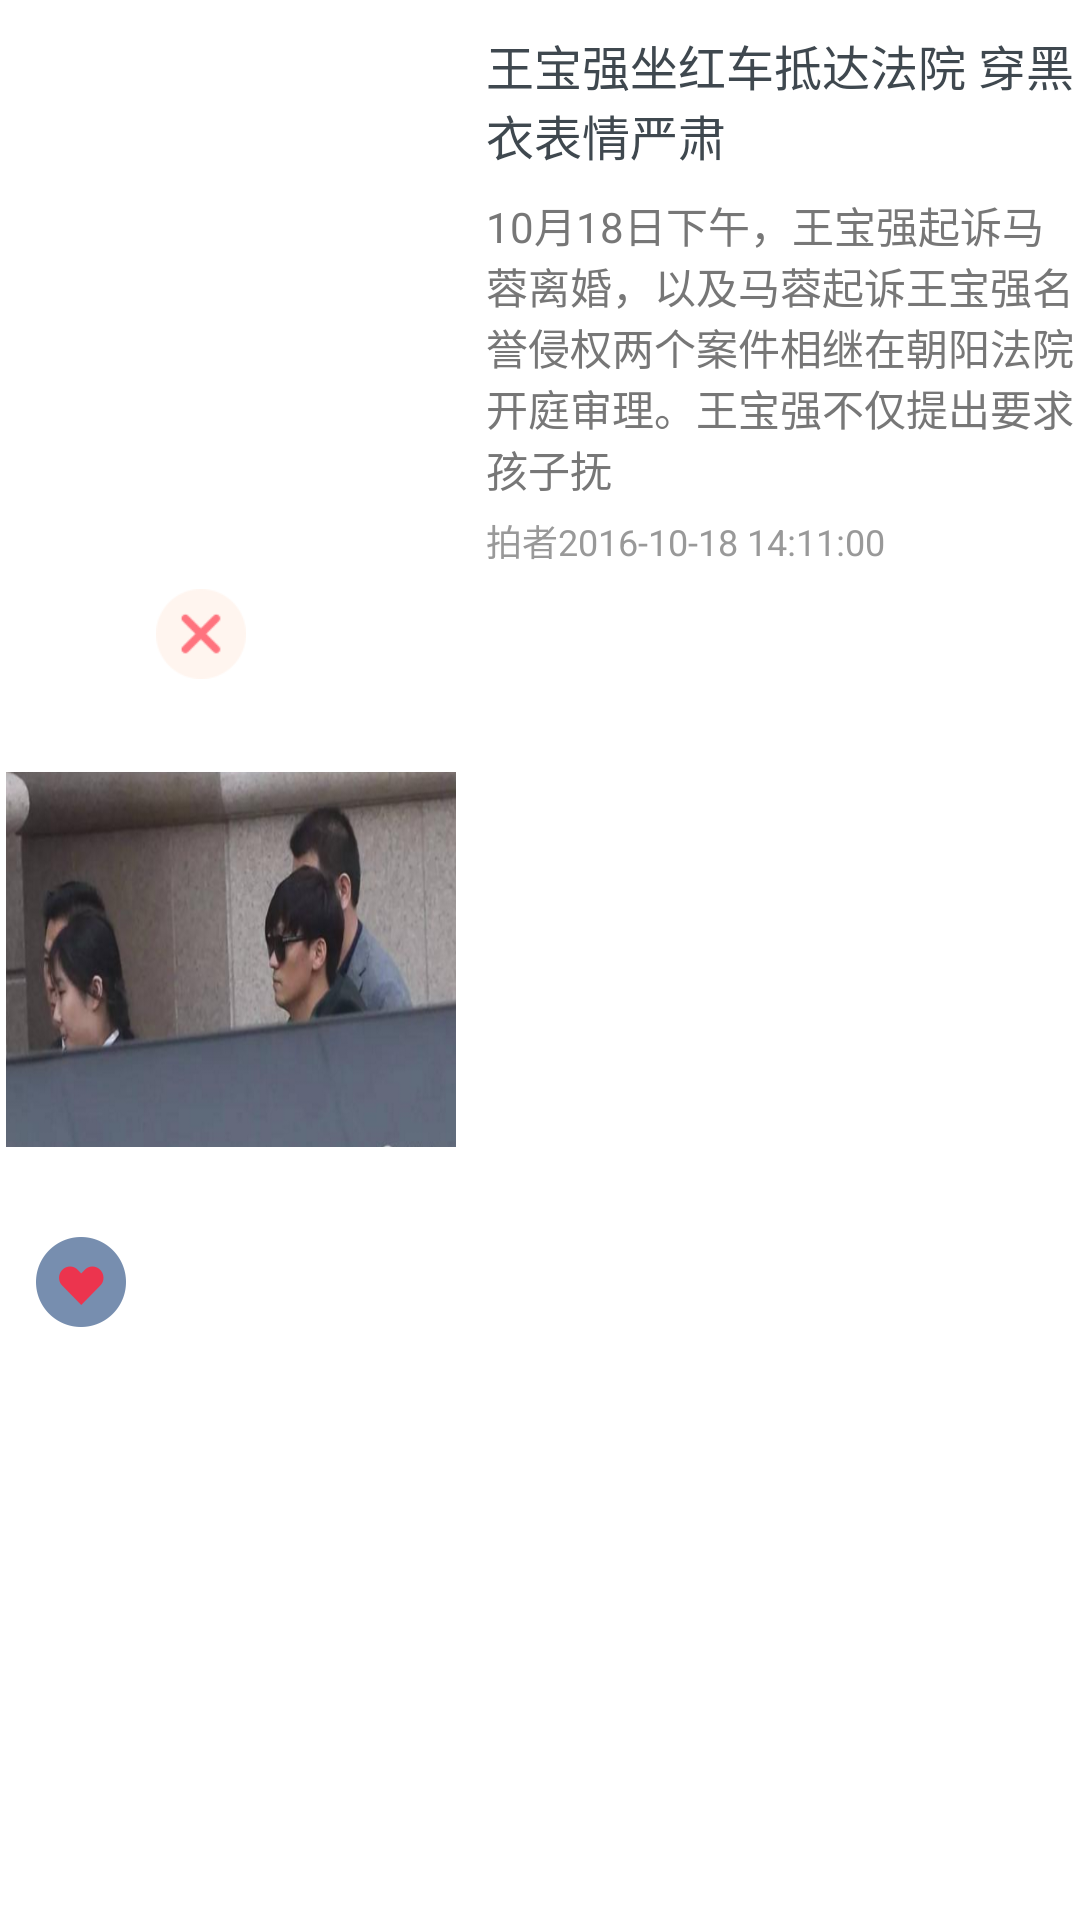

Icon click points for this 1080px x 1920px phone screenshot, format [x,y]:
popup beauty close: [201,634]
share interest: [81,1282]
